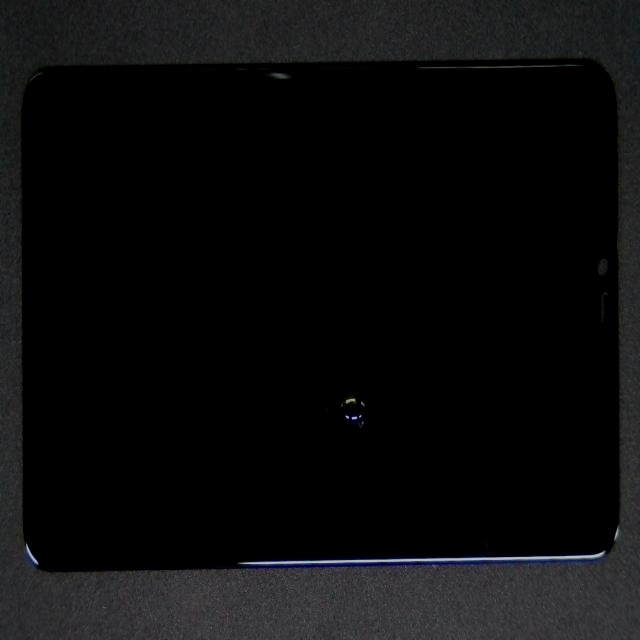oil: (182, 167, 516, 584)
